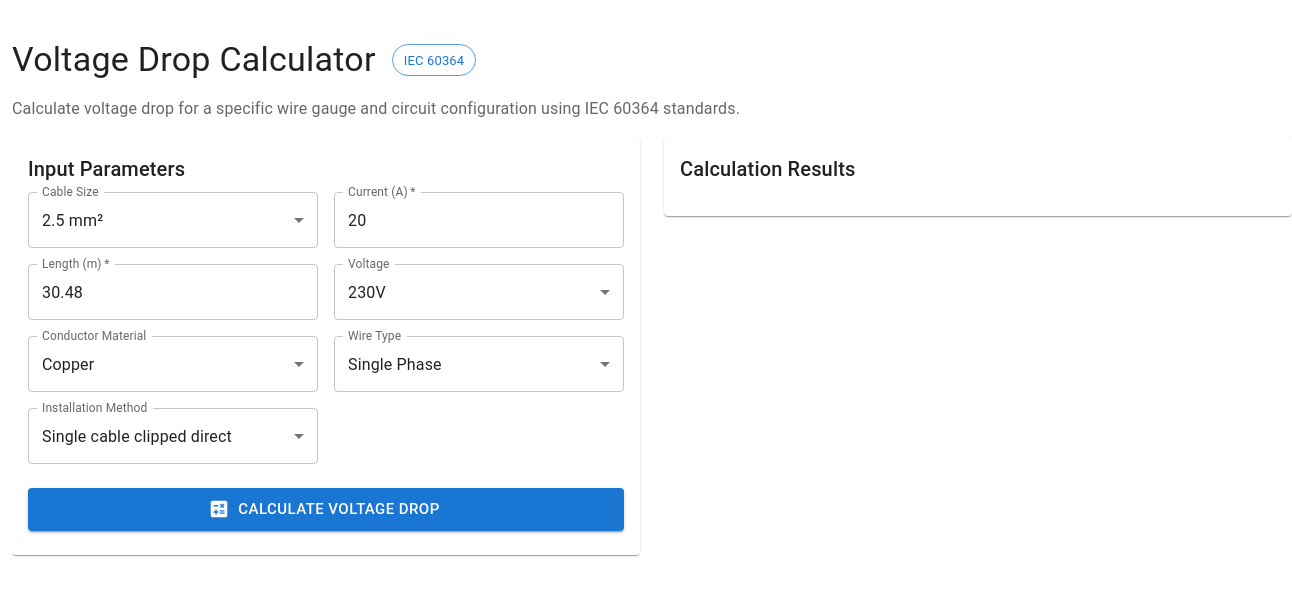
Test: VoltageDropCalculator › Results Display › should show IEC compliance messages for IEC standard
// Trigger calculation
Click the button "Calculate Voltage Drop" at [326, 510], box [28,488,624,531]
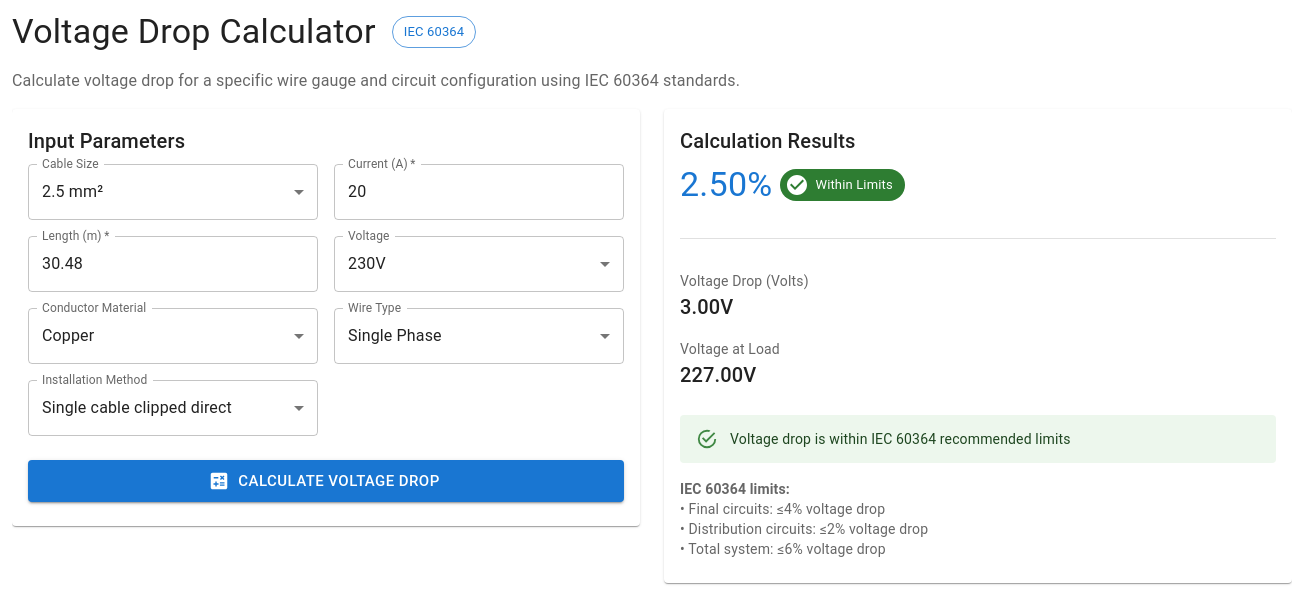
Expected: the text "IEC 60364 limits:" is shown, [680,481,790,497]
Expected: the text "Final circuits: ≤4% voltage drop" is shown, [680,501,885,517]
